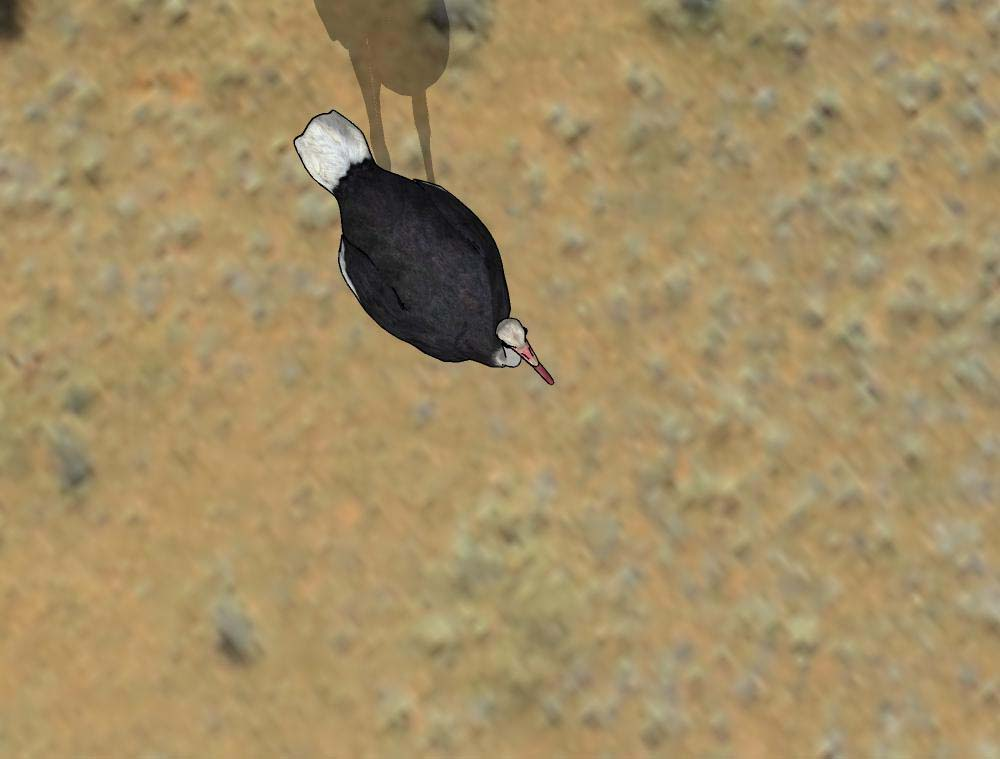ostrich: (287, 100, 561, 396)
